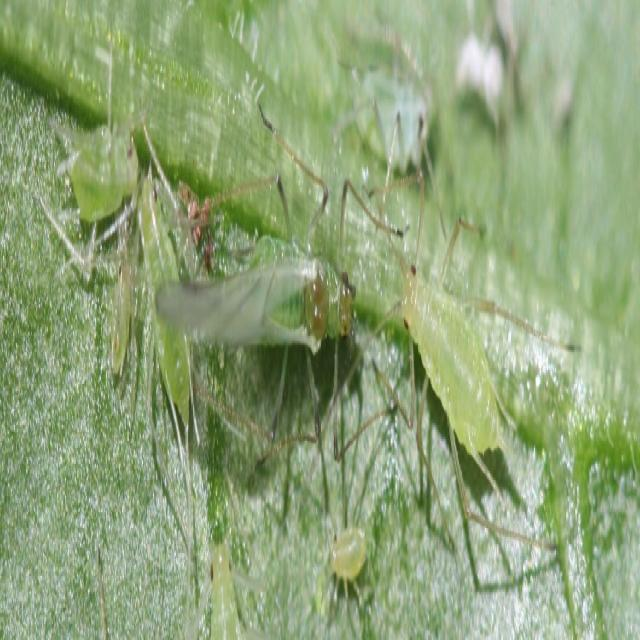Aphid-Grown-: (391, 188, 508, 514), (65, 77, 149, 242), (314, 496, 378, 606)
Aphid-Grown-have wings-: (153, 164, 383, 496)
